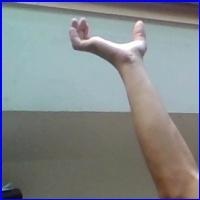space: (66, 16, 156, 71)
